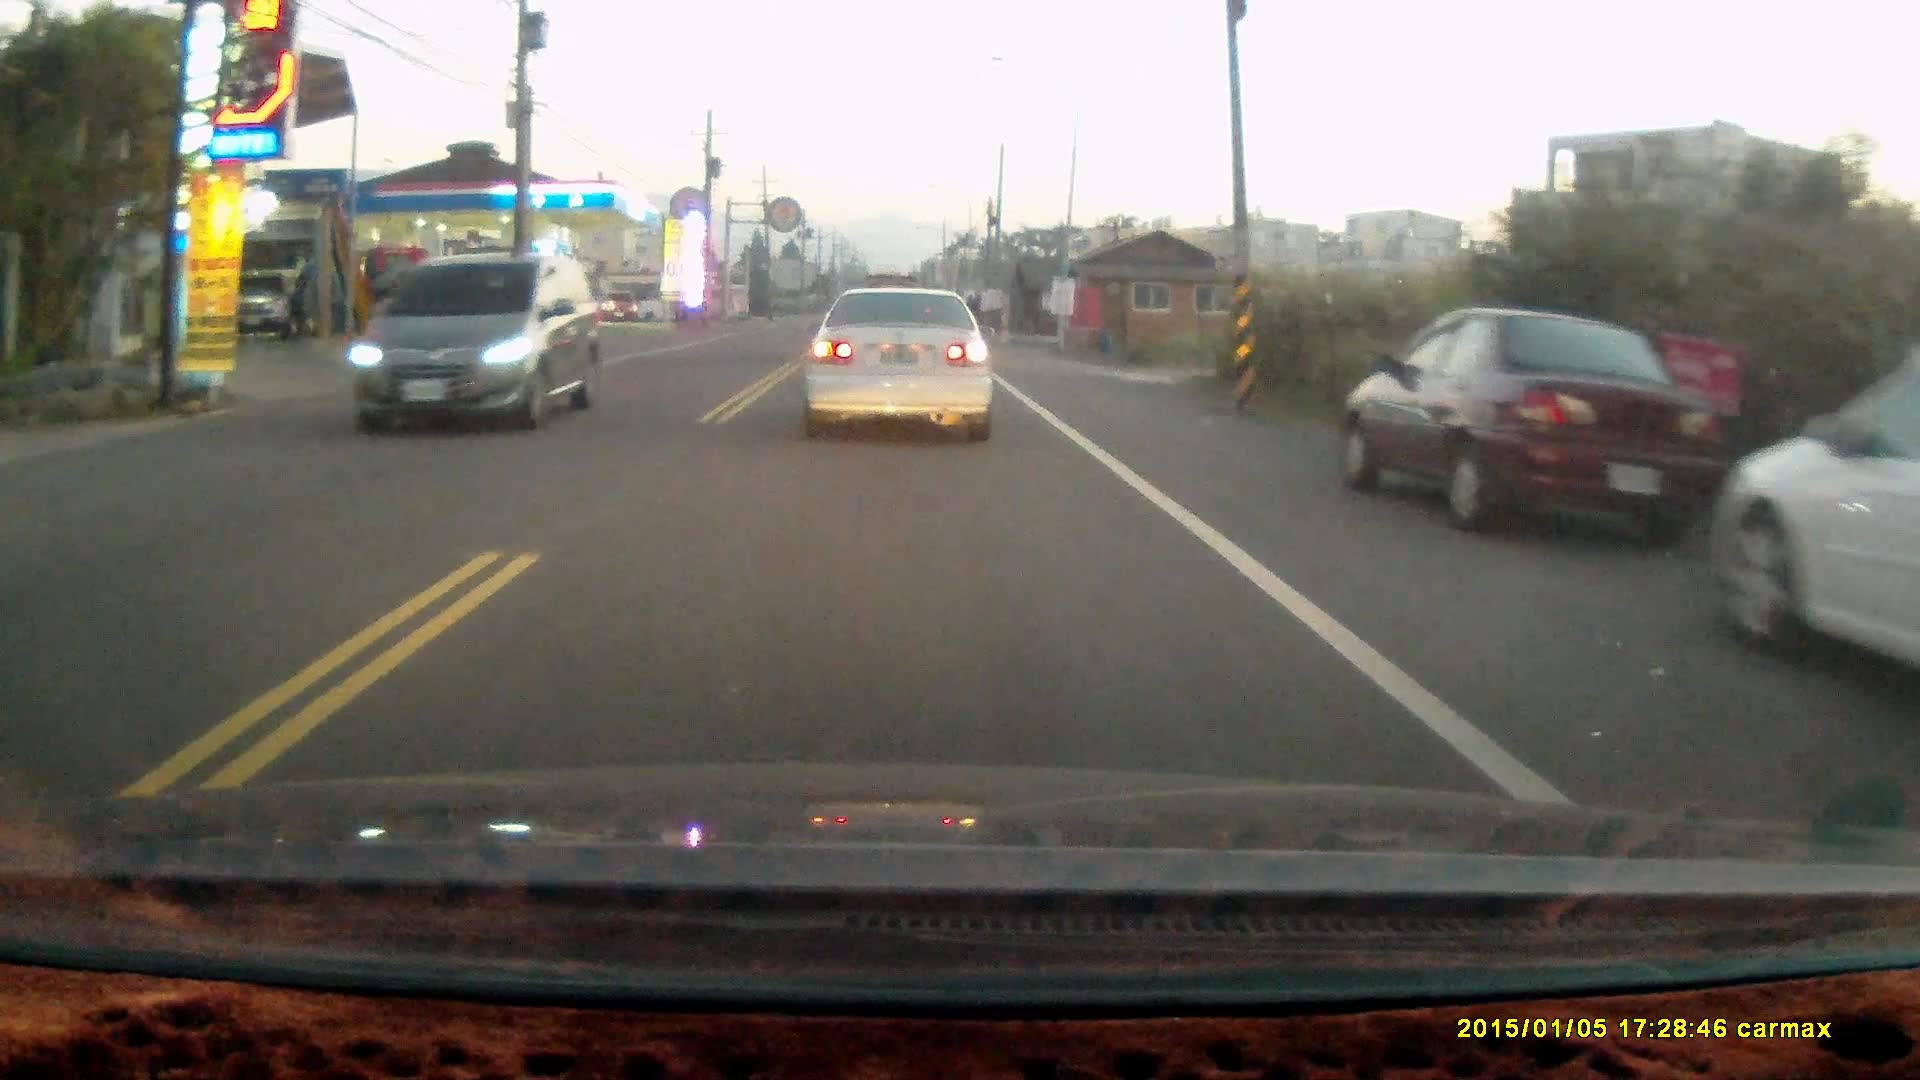vehicle: (1340, 305, 1746, 534), (1706, 355, 1920, 683), (352, 255, 603, 429), (796, 284, 996, 444)
